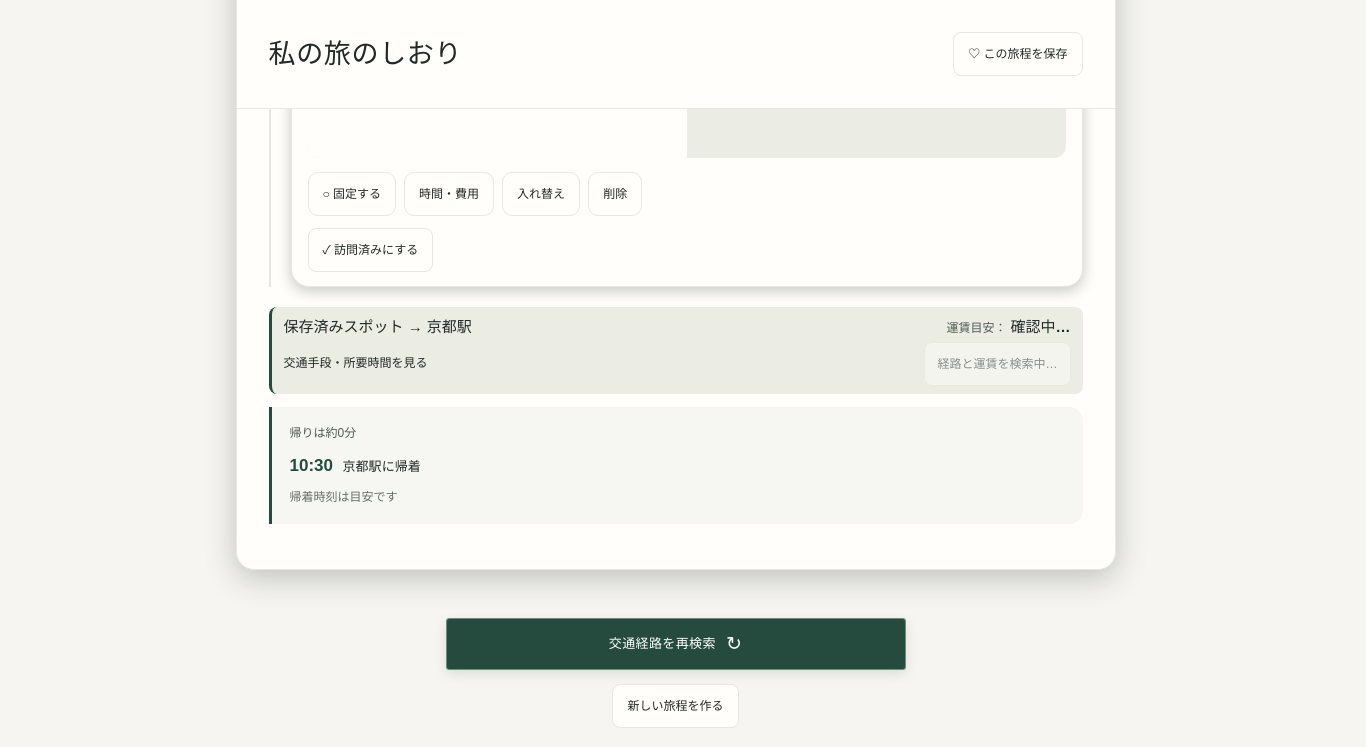
Test: SearchMode nearby departures › saves route results returned by the route API
This screenshot has width=1366, height=747.
(page scrolled)
Step 1. Click the button "交通経路を再検索 ↻" → (676, 644), box [446,618,906,670]
(page scrolled)
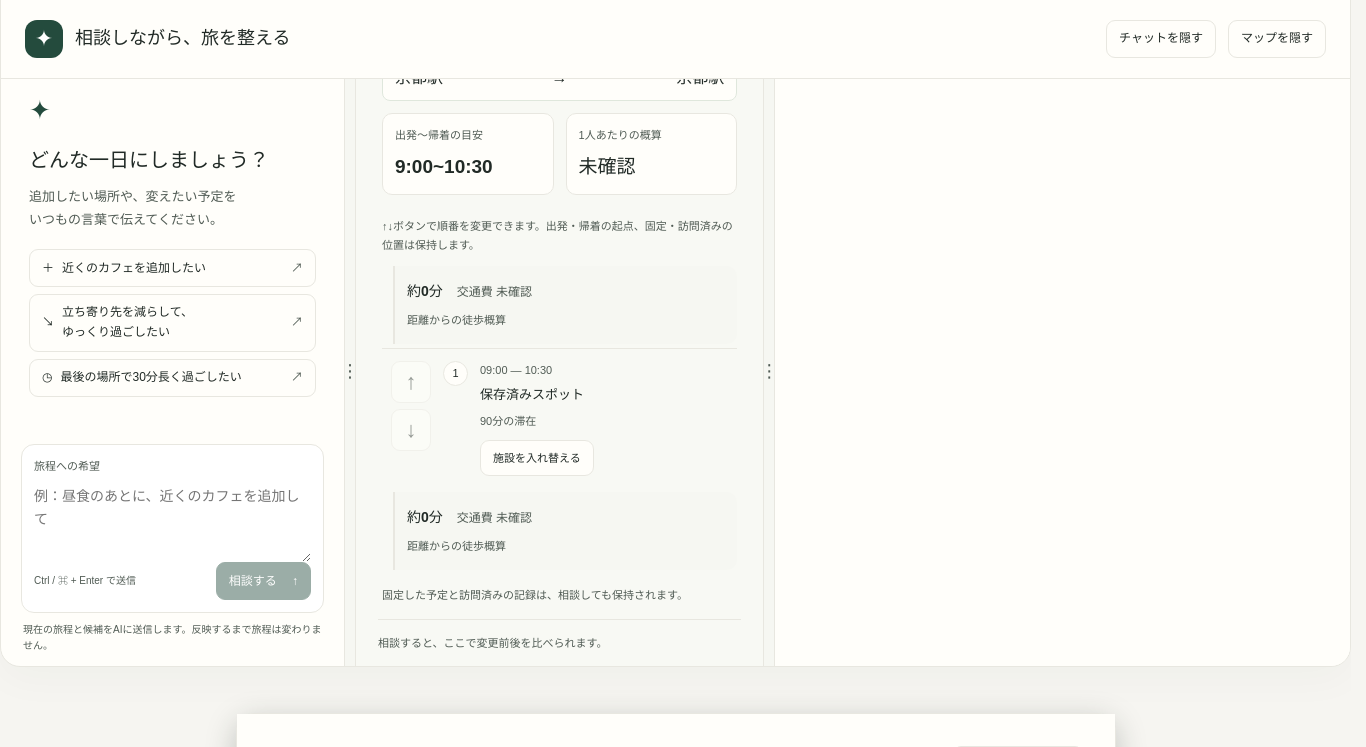
Now the text "保存済みスポット" is shown, box [480,387,584,402]
